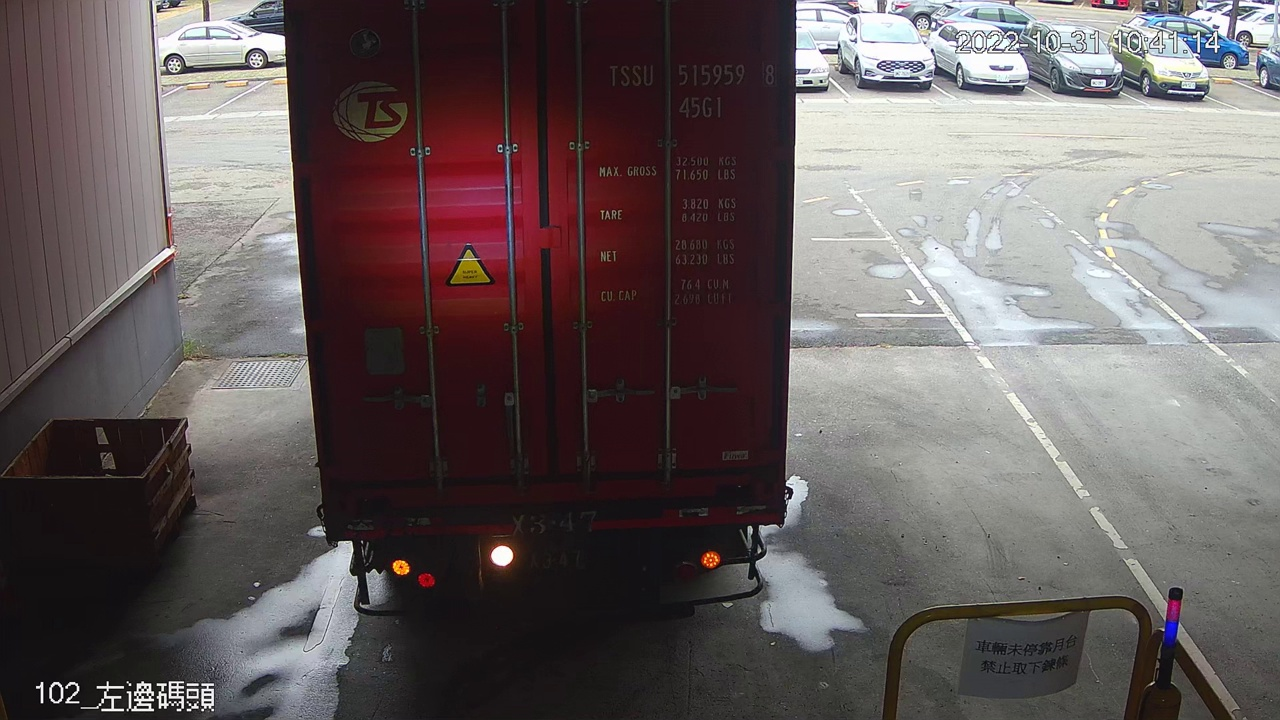container: (602, 55, 783, 126)
